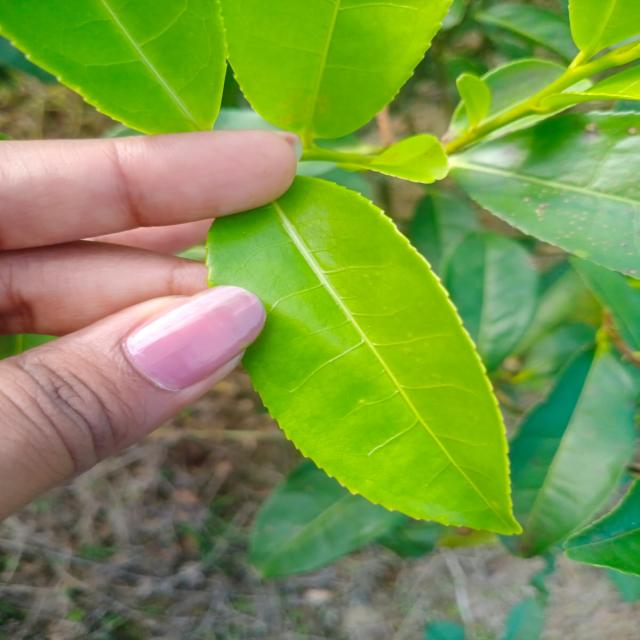Category D(7+ days, Not for Tea): (193, 145, 543, 570)
